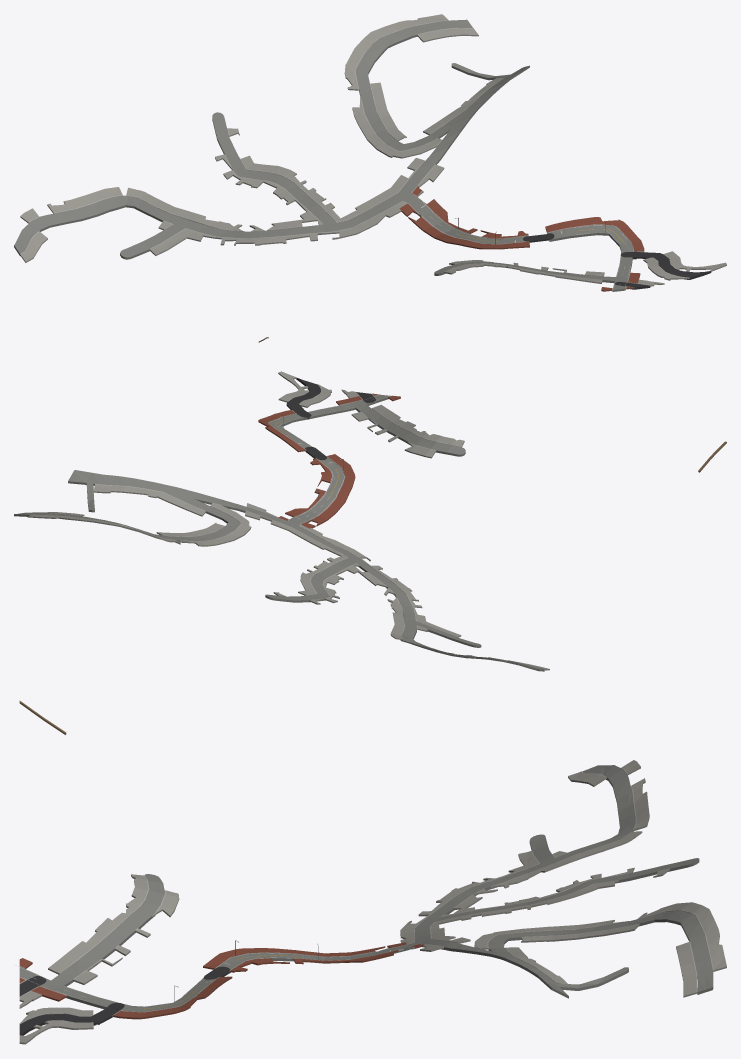
3 renders of one model, top to bottom at view 1: azimuth 30°, elevation 25°; view 2: azimuth 150°, elevation 25°; view 3: azimuth 270°, elevation 25°, orthographic. The views are drawn at different scales.
Size of the model in its own units: 293 by 56.87 by 281.
